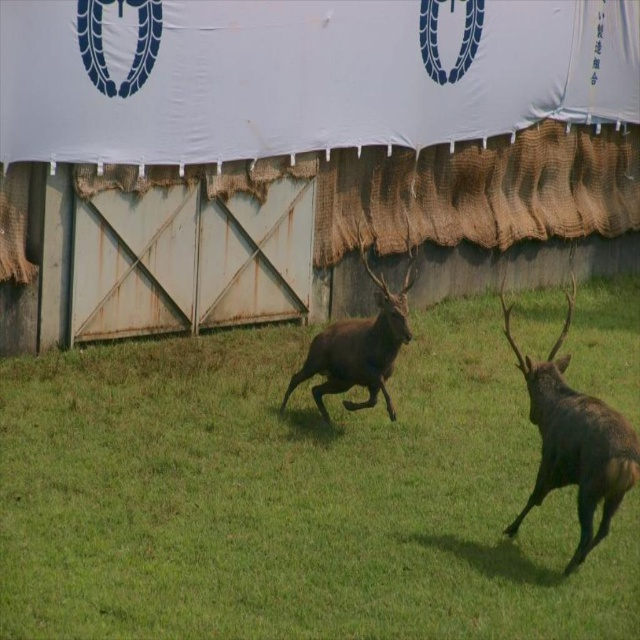Deer: (502, 269, 639, 571), (277, 200, 420, 434)
